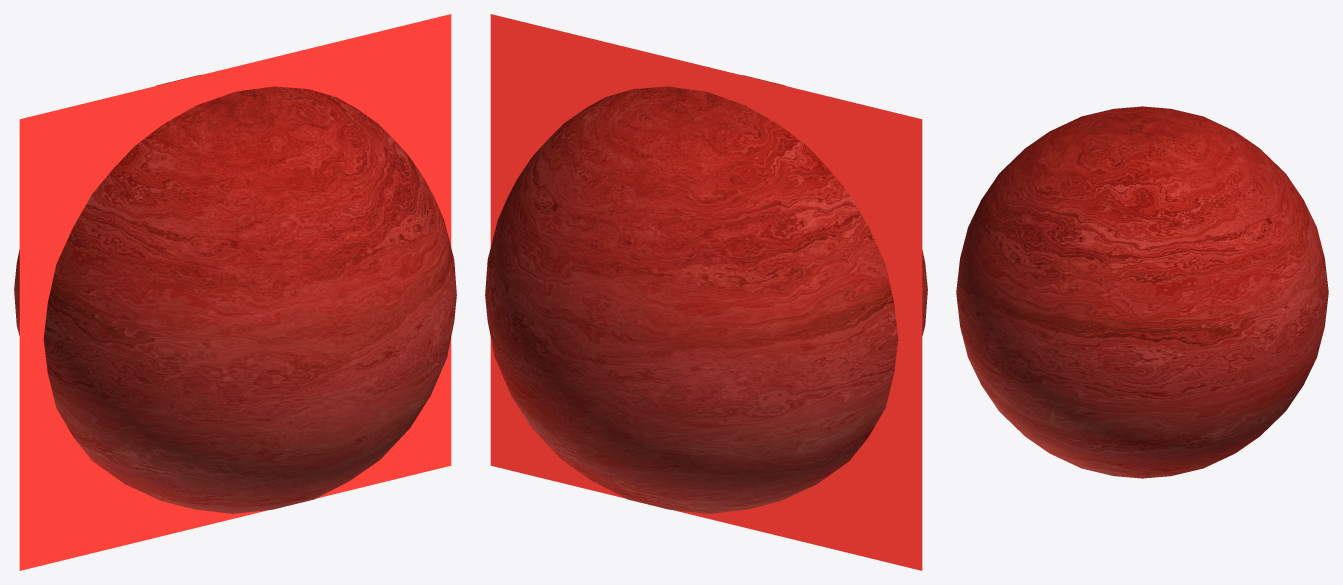
File: planet_a.fbx
3 views of the same model, side by side, from view 1: azimuth 30°, elevation 25°; view 2: azimuth 150°, elevation 25°; view 3: azimuth 270°, elevation 25° (orthographic). The views are drawn at different scales.
Parts seen in each view (by area): view 1: planet_a, planet_r_glow; view 2: planet_a, planet_r_glow; view 3: planet_a.
Part boxes in pixels (<box>): planet_a: <box>14,75,456,513</box>; planet_r_glow: <box>19,14,451,570</box>; planet_a: <box>485,75,927,513</box>; planet_r_glow: <box>490,14,922,570</box>; planet_a: <box>956,106,1328,478</box>.
Size of the model in its own units: 225 by 225 by 200.
2 materials, 1 textured.
